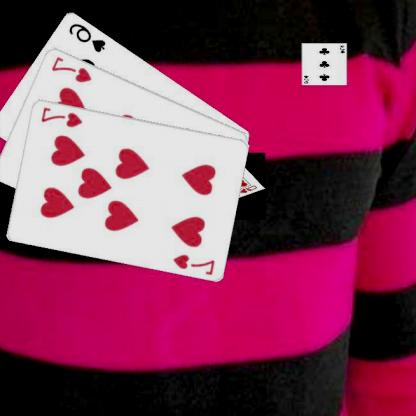6S: (67, 20, 109, 53)
7H: (50, 53, 95, 84), (172, 251, 218, 276), (40, 104, 86, 128)
